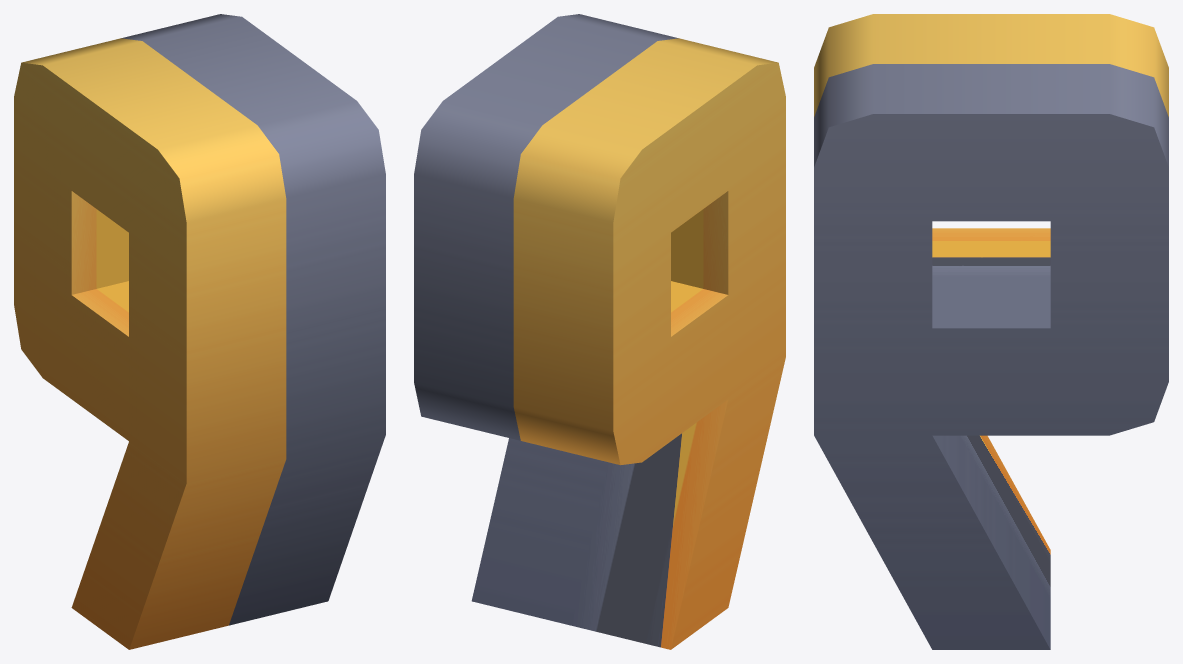
File: number-double-9.fbx
The picture shows the model from 3 angles, left to right: view 1: azimuth 30°, elevation 25°; view 2: azimuth 150°, elevation 25°; view 3: azimuth 270°, elevation 25°; orthographic projection. The views are drawn at different scales.
Visible parts, largest first — view 1: number-double-9; view 2: number-double-9; view 3: number-double-9.
Boxes of the visible parts, x1,y1,x2,y2 form: number-double-9: (14, 14, 385, 649); number-double-9: (414, 14, 785, 649); number-double-9: (814, 14, 1168, 649).
Bounding box in the file's own units: 20 × 50 × 30.
